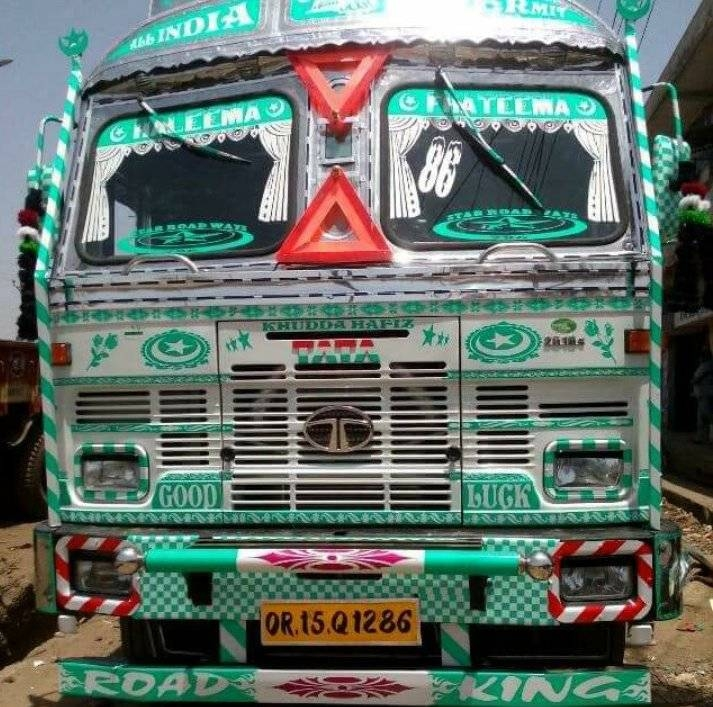numberplate: (258, 598, 420, 645)
